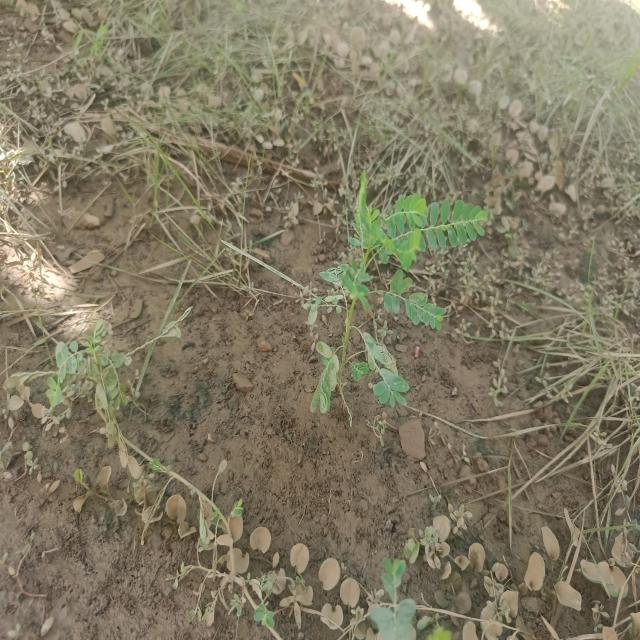weed: (298, 196, 505, 425), (49, 321, 140, 425)
